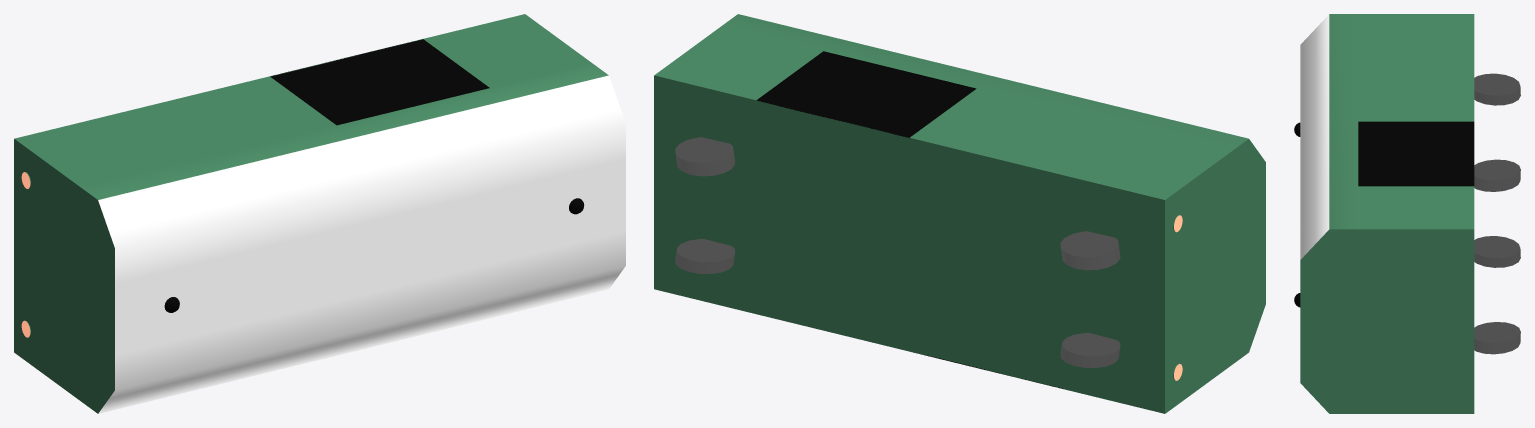
Rendered from asset3.glb.
3 views of the same model, side by side, from view 1: azimuth 30°, elevation 25°; view 2: azimuth 150°, elevation 25°; view 3: azimuth 270°, elevation 25° (orthographic). The views are drawn at different scales.
Visible parts, largest first — view 1: sphere2; view 2: sphere2, sphere2_sep12; view 3: sphere2, sphere2_sep12.
Boxes of the visible parts, x1=… form: sphere2: x1=14, y1=14, x2=625, y2=413; sphere2: x1=654, y1=14, x2=1265, y2=413; sphere2_sep12: x1=675, y1=137, x2=1120, y2=367; sphere2: x1=1300, y1=14, x2=1474, y2=413; sphere2_sep12: x1=1474, y1=73, x2=1520, y2=354.
Size of the model in its own units: 1 by 0.4 by 0.4451.
